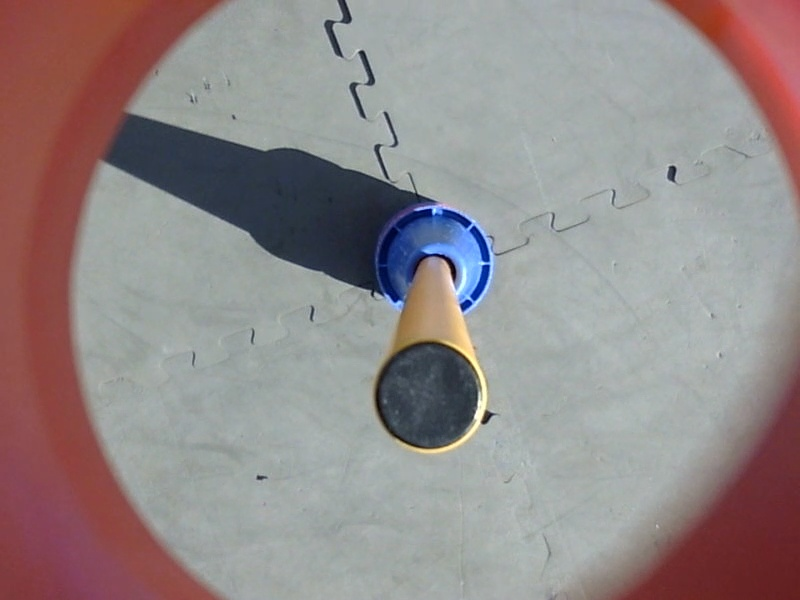tip: (368, 337, 493, 459)
